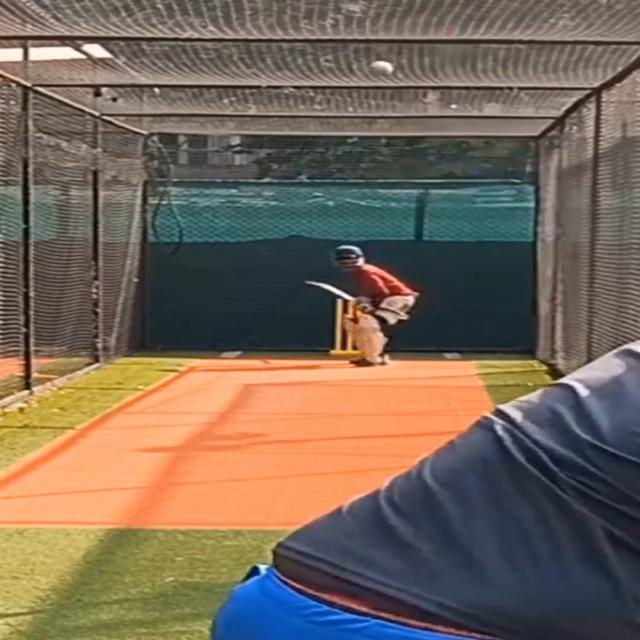ball: (364, 59, 398, 80)
stump: (330, 297, 367, 356)
